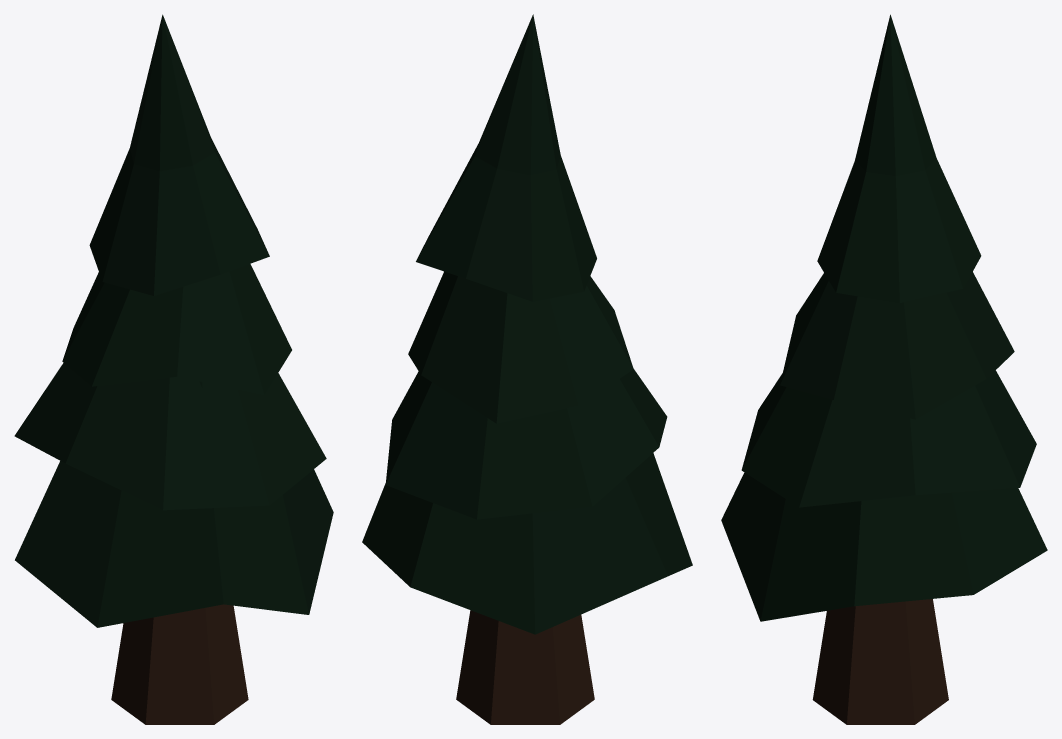
File: pinetree2.obj
3 views of the same model, side by side, from view 1: azimuth 30°, elevation 25°; view 2: azimuth 150°, elevation 25°; view 3: azimuth 270°, elevation 25° (orthographic).
Visible parts, largest first — view 1: tree_2_Cone.005; view 2: tree_2_Cone.005; view 3: tree_2_Cone.005.
Boxes of the visible parts, x1,y1,x2,y2 form: tree_2_Cone.005: (14,14,333,724); tree_2_Cone.005: (362,14,692,724); tree_2_Cone.005: (721,14,1047,724).
Bounding box in the file's own units: 3.23 × 7.2 × 3.13.
